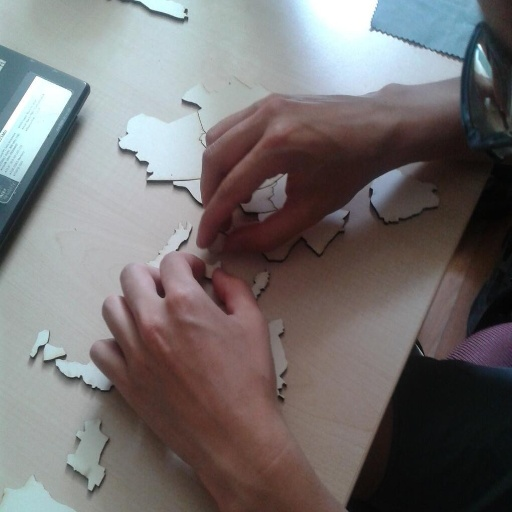hand: (86, 256, 274, 481), (194, 90, 387, 260)
